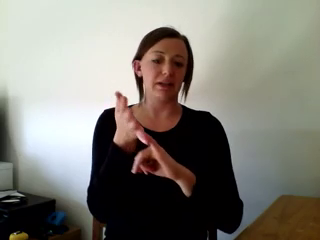S: (107, 86, 176, 184)
